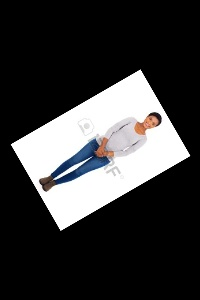arm: (116, 138, 160, 161), (96, 109, 132, 135)
chest: (105, 131, 135, 149)
face: (142, 113, 163, 128)
foot: (37, 174, 54, 184), (42, 183, 58, 191)
hand: (98, 144, 109, 159)
leg: (41, 140, 97, 173), (59, 165, 116, 184)
neck: (136, 121, 145, 134)
